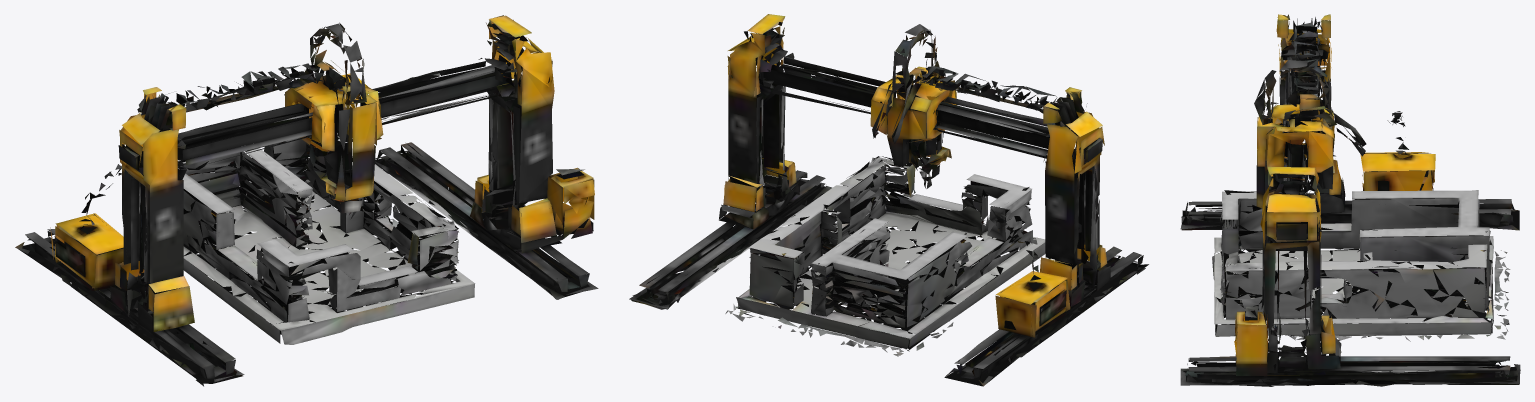
File: printer-lite.glb
3 views of the same model, side by side, from view 1: azimuth 30°, elevation 25°; view 2: azimuth 150°, elevation 25°; view 3: azimuth 270°, elevation 25° (orthographic). The views are drawn at different scales.
Parts seen in each view (by area): view 1: geometry_0; view 2: geometry_0; view 3: geometry_0.
Part boxes in pixels (left/top/right/bottom): geometry_0: left=15, top=15, right=598, bottom=386; geometry_0: left=629, top=14, right=1148, bottom=386; geometry_0: left=1180, top=14, right=1520, bottom=386.
Size of the model in its own units: 1 by 0.5885 by 0.7489.
1 material, 1 textured.
